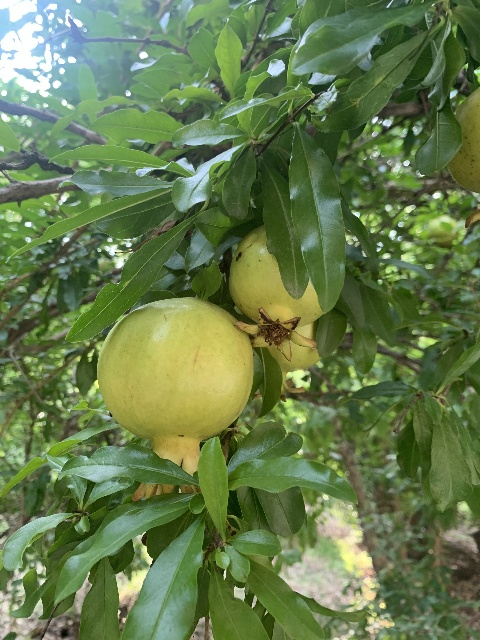mid-growth: (96, 296, 252, 501), (228, 226, 323, 362), (266, 321, 322, 402)
